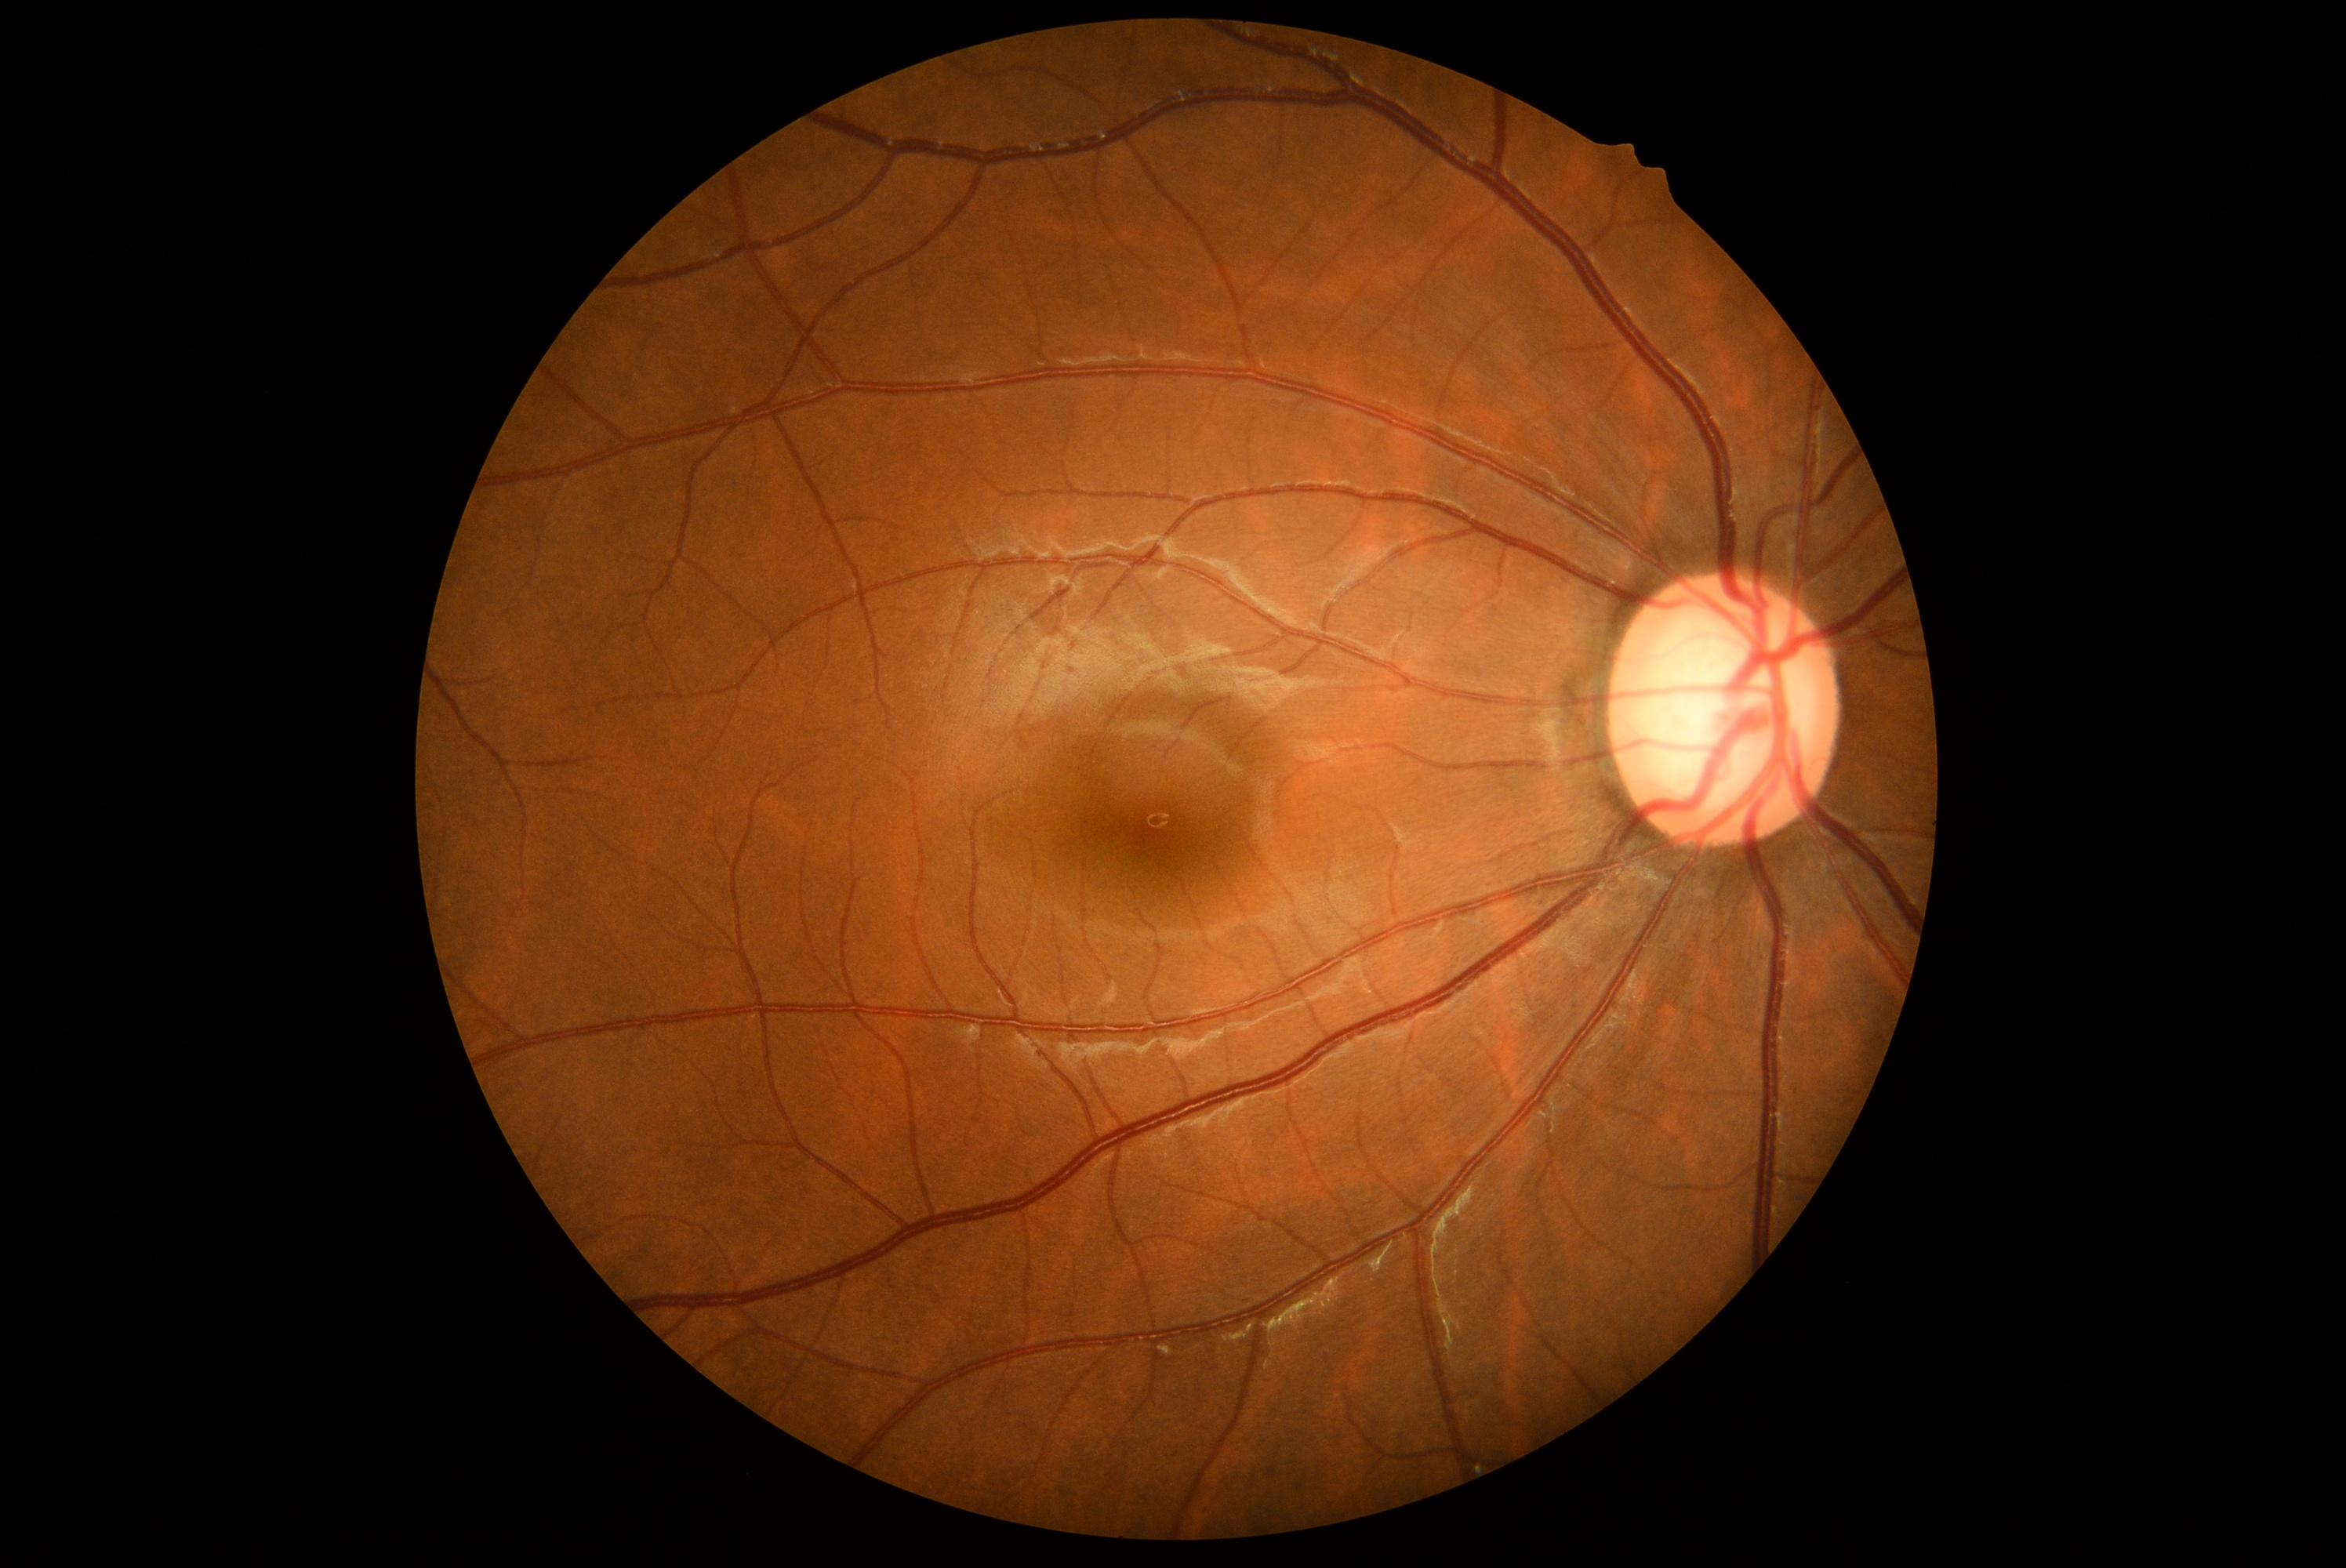Fovea: (1067, 739, 1233, 903)
